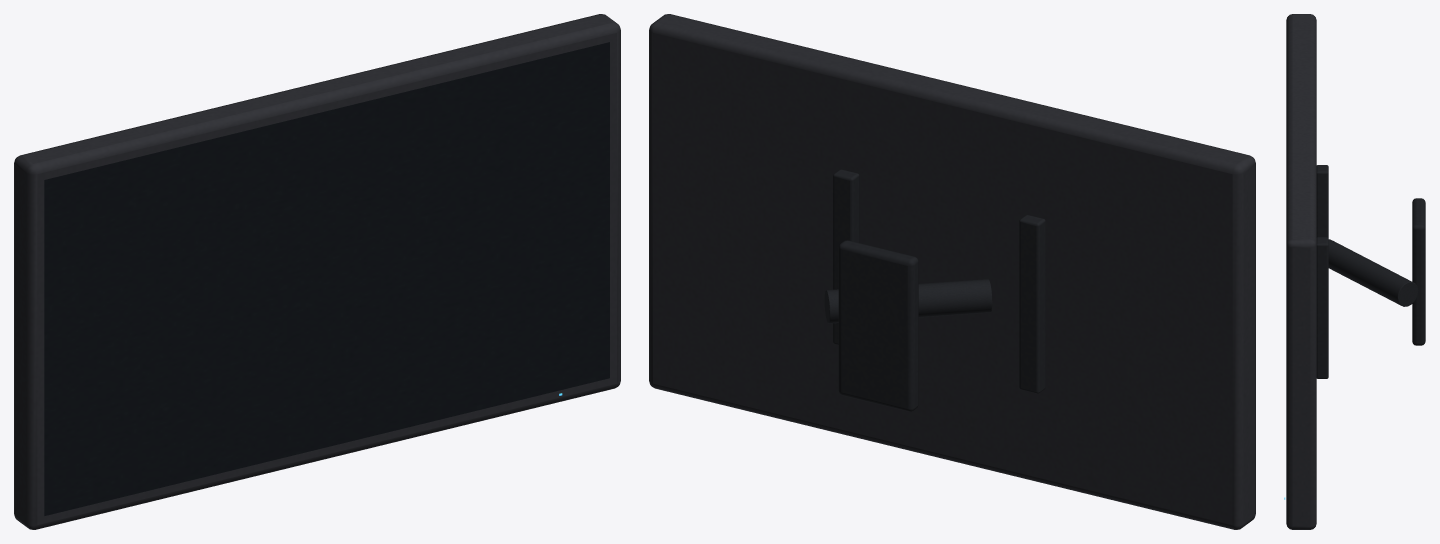
File: 09_wall_display.glb
3 renders of one model, left to right at view 1: azimuth 30°, elevation 25°; view 2: azimuth 150°, elevation 25°; view 3: azimuth 270°, elevation 25°, orthographic. The views are drawn at different scales.
Parts seen in each view (by area): view 1: 09_wall_display__unlit_glass, 09_wall_display__display_body; view 2: 09_wall_display__display_body, 09_wall_display__wall_plate, 09_wall_display__vesa_rail, 09_wall_display__articulated_arm, 09_wall_display__vesa_rail.001; view 3: 09_wall_display__display_body, 09_wall_display__articulated_arm, 09_wall_display__wall_plate, 09_wall_display__vesa_rail.001, 09_wall_display__vesa_rail.
Boxes of the visible parts, box(x1,y1,x2,y2) form: 09_wall_display__unlit_glass: box(44, 42, 609, 515); 09_wall_display__display_body: box(14, 14, 620, 529); 09_wall_display__display_body: box(649, 14, 1255, 529); 09_wall_display__wall_plate: box(838, 240, 918, 411); 09_wall_display__vesa_rail: box(1019, 215, 1045, 393); 09_wall_display__articulated_arm: box(824, 279, 992, 323); 09_wall_display__vesa_rail.001: box(833, 169, 859, 344); 09_wall_display__display_body: box(1286, 14, 1316, 529); 09_wall_display__articulated_arm: box(1328, 239, 1418, 306); 09_wall_display__wall_plate: box(1412, 198, 1425, 345); 09_wall_display__vesa_rail.001: box(1316, 237, 1328, 378); 09_wall_display__vesa_rail: box(1316, 165, 1328, 238).
Bounding box in the file's own units: 1.02 × 0.6 × 0.2645.
Materials: 4 (4 with a texture image).
